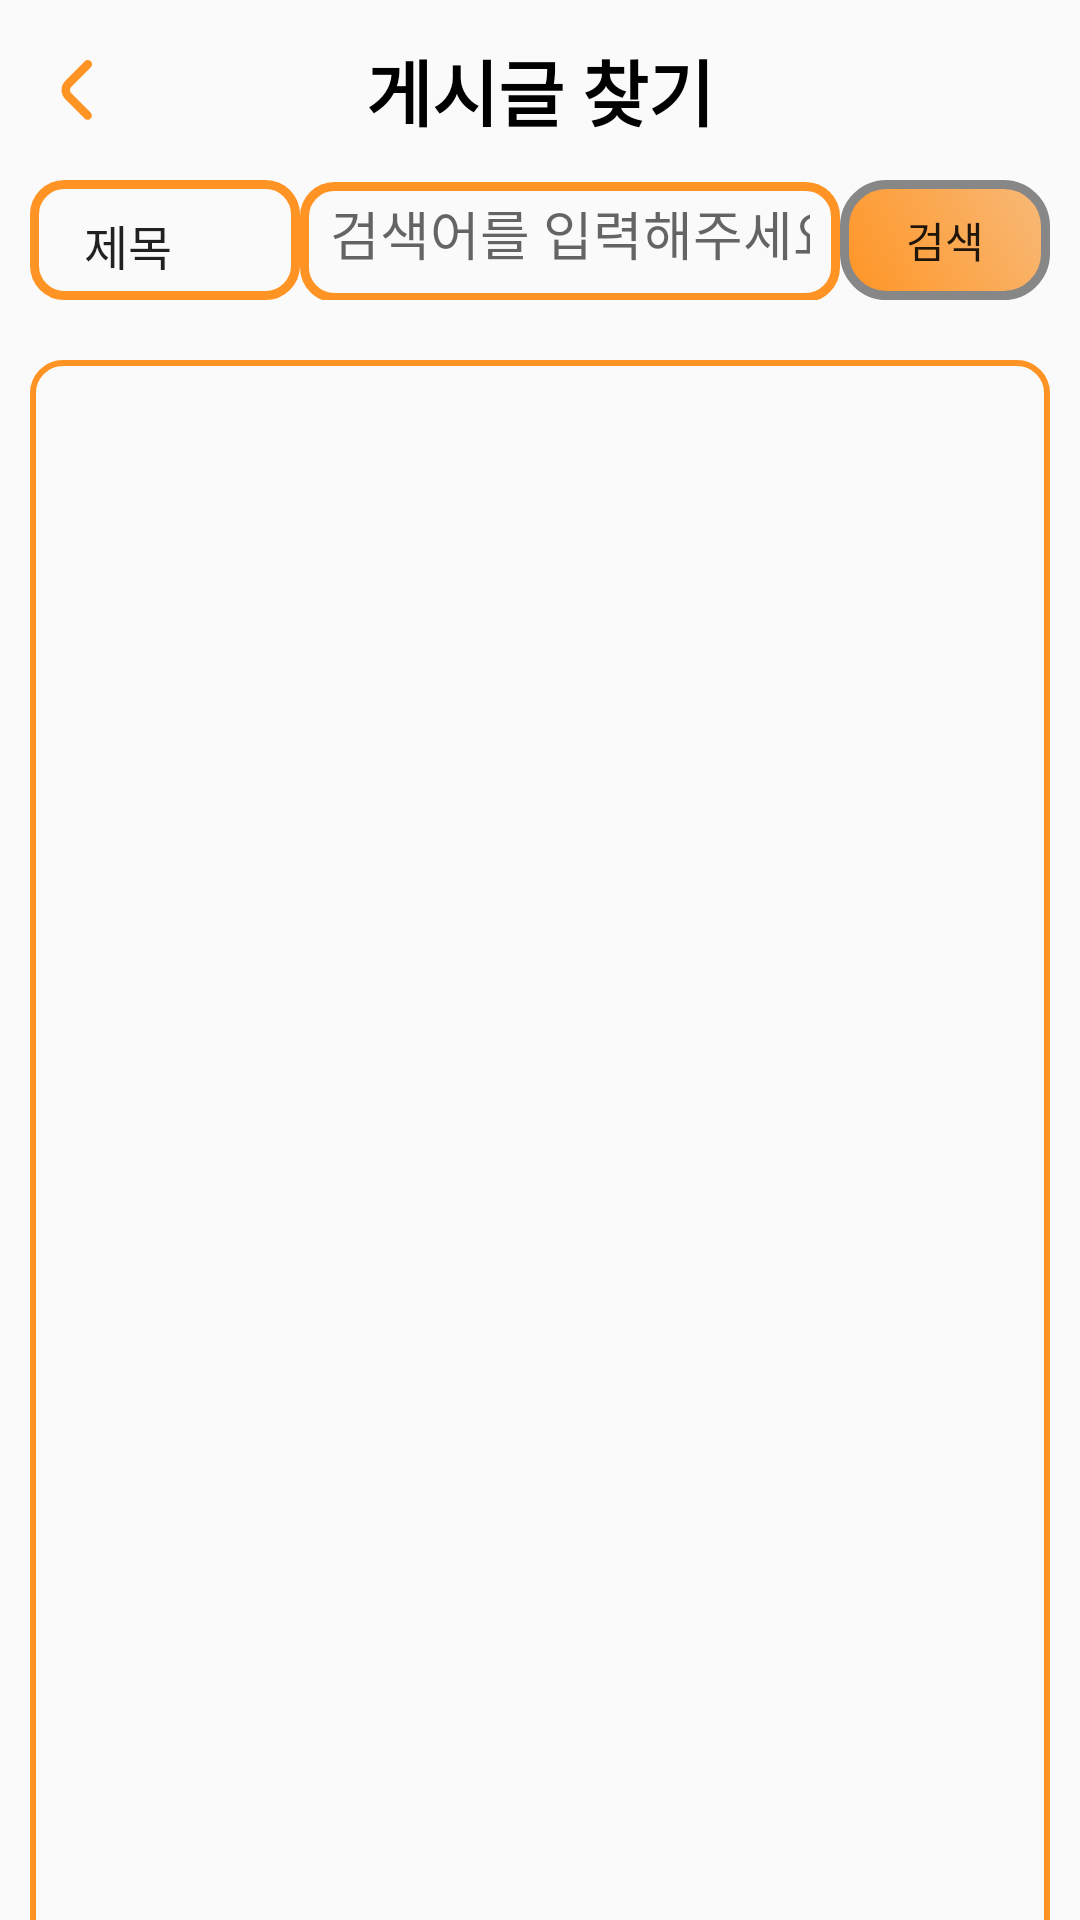

Named icons in this screenshot (1080 x 1920) and their centers, (x=x, y=y):
back signiture: (x=76, y=90)
